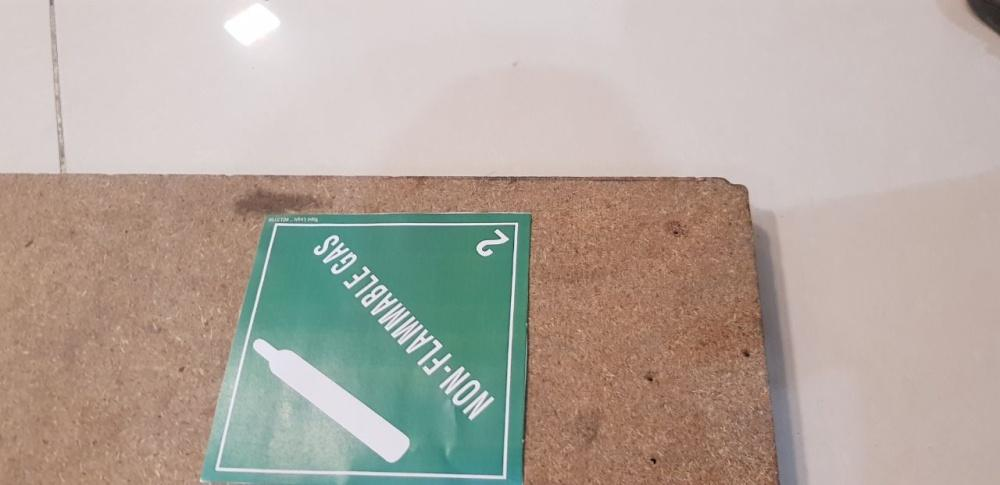non-flammable-gas: (201, 213, 532, 485)
